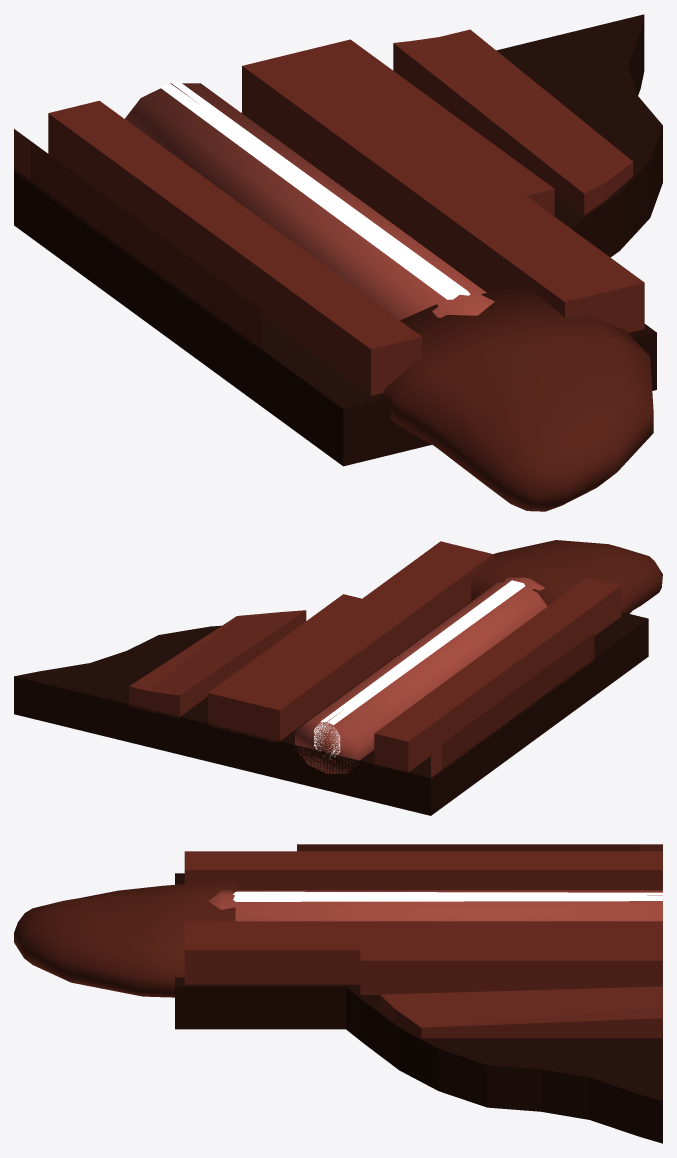
The model's file is newshf-274.glb.
The picture shows the model from 3 angles, top to bottom: view 1: azimuth 30°, elevation 25°; view 2: azimuth 150°, elevation 25°; view 3: azimuth 270°, elevation 25°; orthographic projection. The views are drawn at different scales.
Visible parts, largest first — view 1: newshf-274; view 2: newshf-274; view 3: newshf-274.
Part boxes in pixels (bbox=[...]): newshf-274: bbox=[14, 14, 662, 511]; newshf-274: bbox=[14, 540, 662, 815]; newshf-274: bbox=[14, 844, 662, 1143].
Size of the model in its own units: 1.84 by 0.2931 by 2.22.
